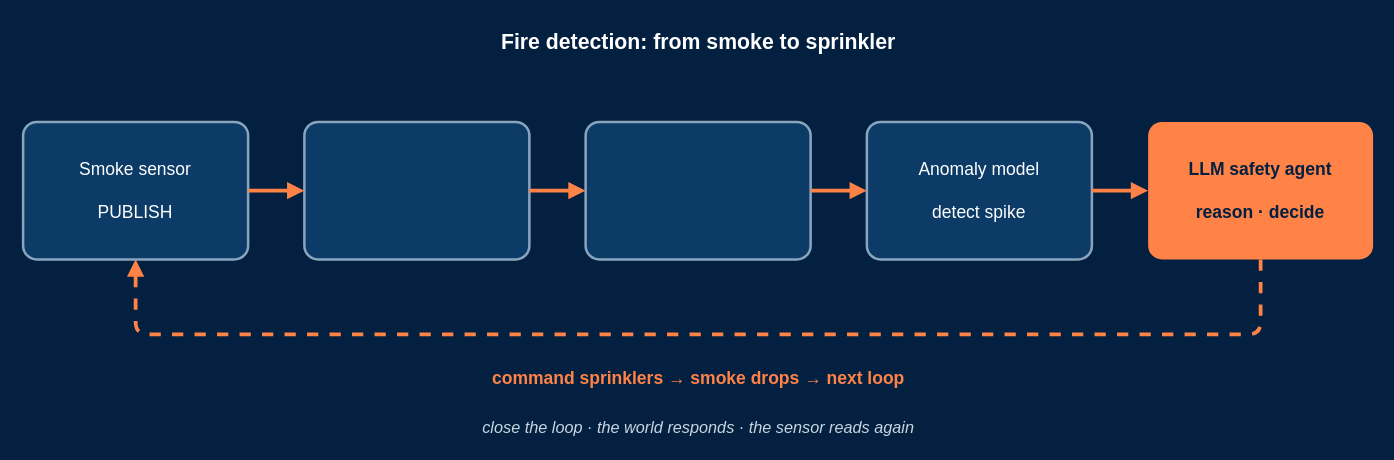
The diagram is 1394 pixels wide and 460 high, and some of its shapes have lost their labels. The box of each missing label's shape, as (x1, y1, x2, y2) in pixels:
MQTT broker topic: sensors/#: (302, 120, 530, 260)
Time-series DB INSERT: (584, 120, 811, 260)
